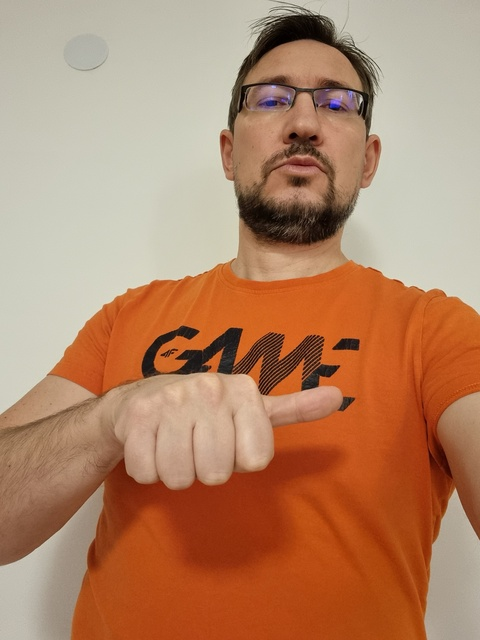GestBack: (114, 374, 342, 488)
